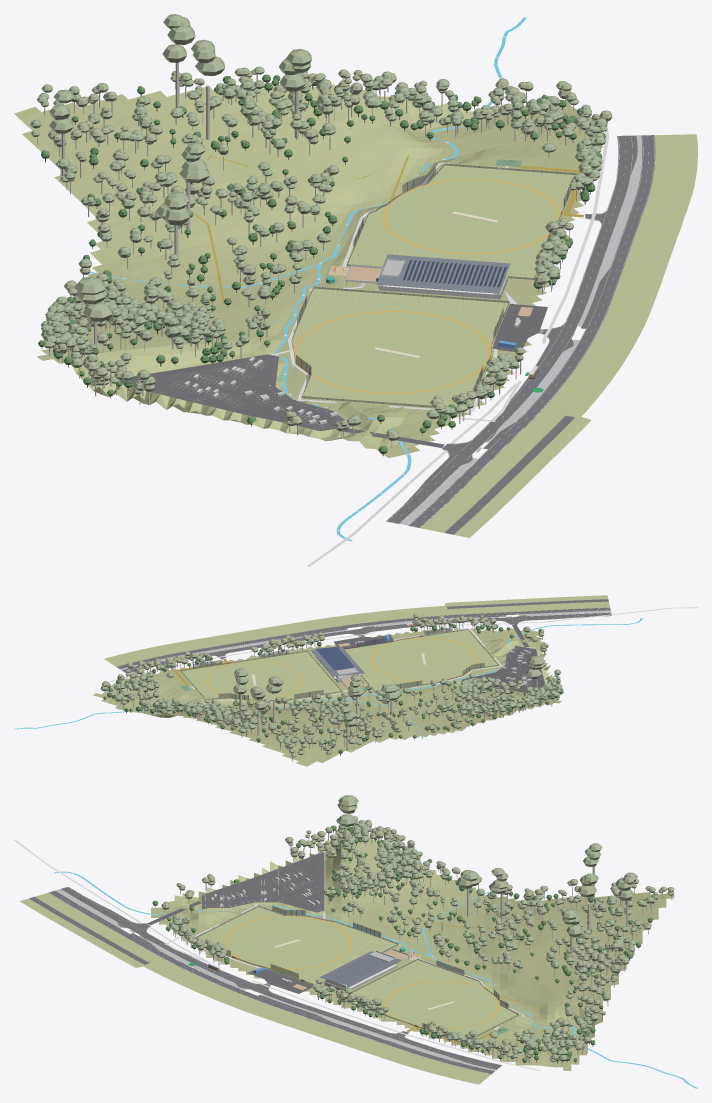
Rendered from KHFR_stage4_summer.glb.
The picture shows the model from 3 angles, top to bottom: view 1: azimuth 30°, elevation 25°; view 2: azimuth 150°, elevation 25°; view 3: azimuth 270°, elevation 25°; orthographic projection. The views are drawn at different scales.
Visible parts, largest first — view 1: Reserve terrain, field S flatgrass, Bushland forest (euc_can), Road reserve (far verge), field N flatgrass, Bush planting zones (euc_can), Swansea Rd NE-bound (surveyed both edges), Giant eucalypts (canopies), New car park (~220), Swansea Rd SW-bound (2 lanes, smooth), Tennis precinct bush retained (euc_can), Bushland forest (wat_can) (+15 smaller); view 2: Reserve terrain, Bushland forest (euc_can), field S flatgrass, Road reserve (far verge), field N flatgrass, Bush planting zones (euc_can), Giant eucalypts (canopies), Swansea Rd SW-bound (2 lanes, smooth), Tennis precinct bush retained (euc_can), Swansea Rd NE-bound (surveyed both edges), New car park (~220), Bushland forest (wat_can) (+12 smaller); view 3: Reserve terrain, Bushland forest (euc_can), field S flatgrass, Road reserve (far verge), field N flatgrass, Bush planting zones (euc_can), New car park (~220), Swansea Rd NE-bound (surveyed both edges), Giant eucalypts (canopies), Tennis precinct bush retained (euc_can), Swansea Rd SW-bound (2 lanes, smooth), Bushland forest (wat_can) (+13 smaller).
Boxes of the visible parts, x1,y1,x2,y2 form: Reserve terrain: (14,84,605,457); field S flatgrass: (292,288,509,410); Bushland forest (euc_can): (30,71,399,440); Road reserve (far verge): (420,134,697,537); field N flatgrass: (347,165,575,279); Bush planting zones (euc_can): (215,66,612,414); Swansea Rd NE-bound (surveyed both edges): (386,135,637,523); Giant eucalypts (canopies): (49,14,311,321); New car park (~220): (119,354,352,430); Swansea Rd SW-bound (2 lanes, smooth): (408,135,655,527); Tennis precinct bush retained (euc_can): (40,295,232,385); Bushland forest (wat_can): (41,82,387,453); Reserve terrain: (93,628,561,766); Bushland forest (euc_can): (183,626,561,757); field S flatgrass: (344,629,498,692); Road reserve (far verge): (104,595,609,666); field N flatgrass: (180,651,341,700); Bush planting zones (euc_can): (100,614,496,727); Giant eucalypts (canopies): (233,655,545,726); Swansea Rd SW-bound (2 lanes, smooth): (116,607,610,668); Tennis precinct bush retained (euc_can): (455,676,563,715); Swansea Rd NE-bound (surveyed both edges): (121,612,611,673); New car park (~220): (462,645,544,692); Bushland forest (wat_can): (212,628,553,753); Reserve terrain: (151,831,674,1070); Bushland forest (euc_can): (161,823,674,985); field S flatgrass: (189,906,398,984); Road reserve (far verge): (20,892,490,1084); field N flatgrass: (345,960,519,1042); Bush planting zones (euc_can): (169,914,635,1062); New car park (~220): (202,852,324,912); Swansea Rd NE-bound (surveyed both edges): (61,887,501,1069); Giant eucalypts (canopies): (337,795,637,937); Tennis precinct bush retained (euc_can): (298,816,417,894); Swansea Rd SW-bound (2 lanes, smooth): (49,890,494,1074); Bushland forest (wat_can): (152,827,652,984).
Bounding box in the file's own units: 495 × 86.34 × 604.
